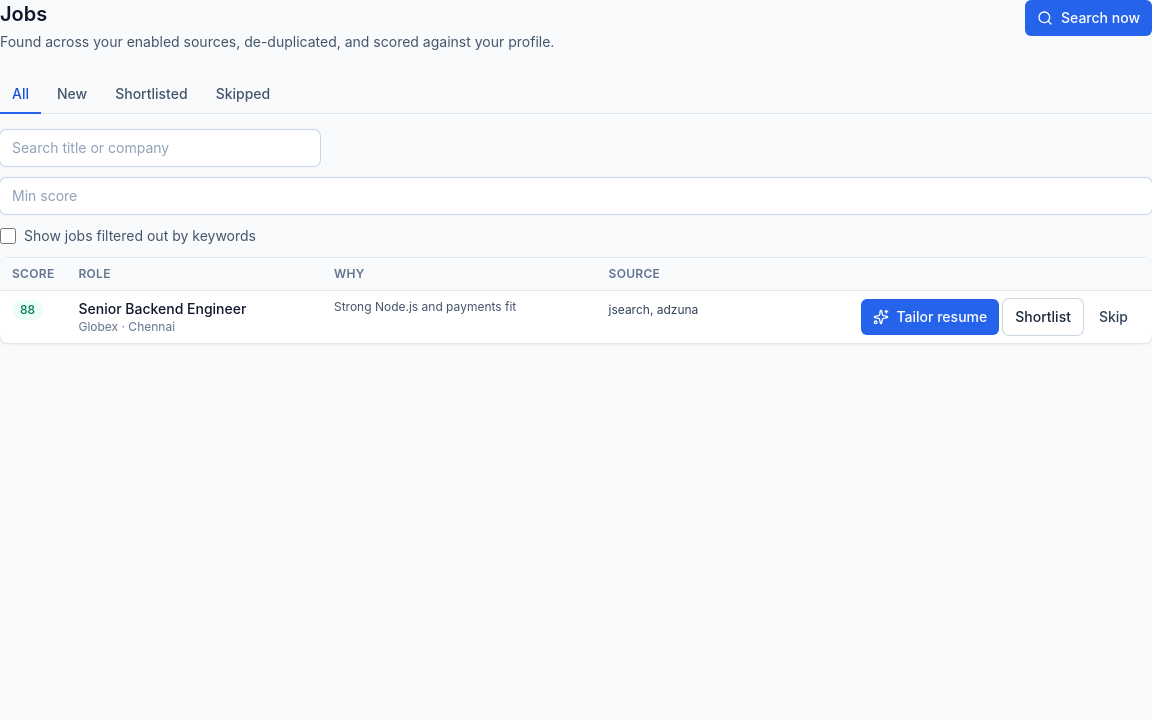
Test case: JobsPage › shows the cap error when tailoring is refused
What coordinates should you click on to do the following:
click the button "Tailor resume"
I would click on:
 (930, 317)
Its box is left=860, top=299, right=999, bottom=335.
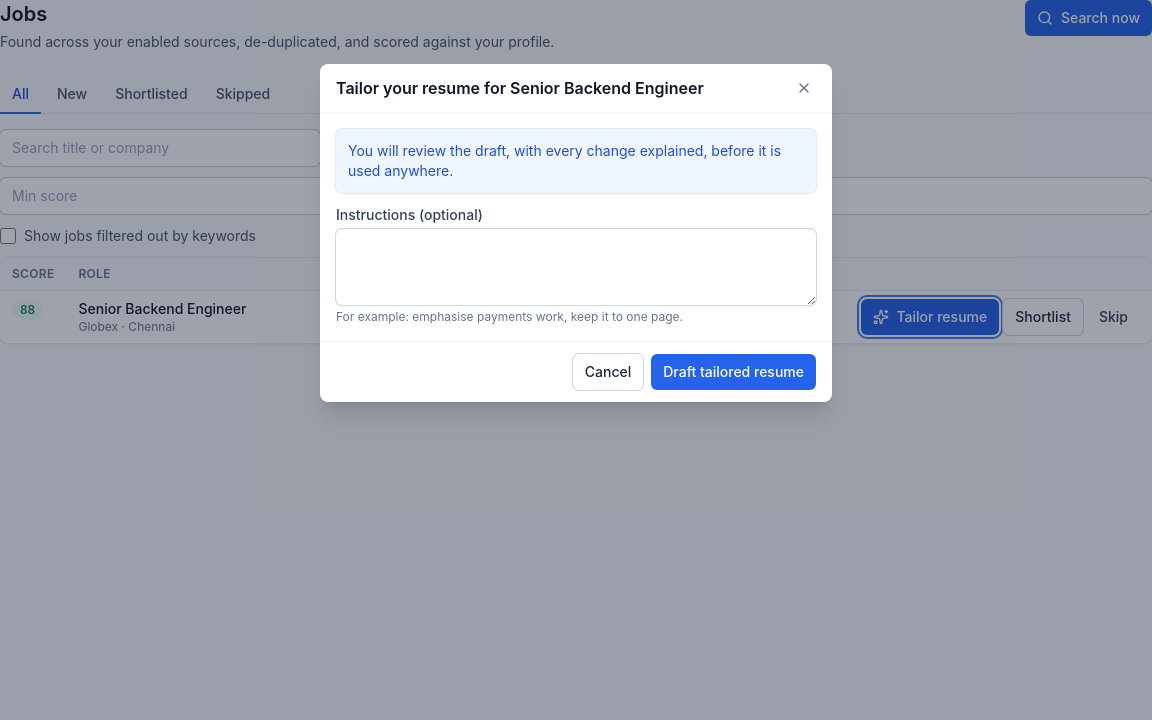
What coordinates should you click on to do the following:
click the button "Draft tailored resume"
I would click on:
 (734, 372)
Its box is left=651, top=354, right=816, bottom=390.
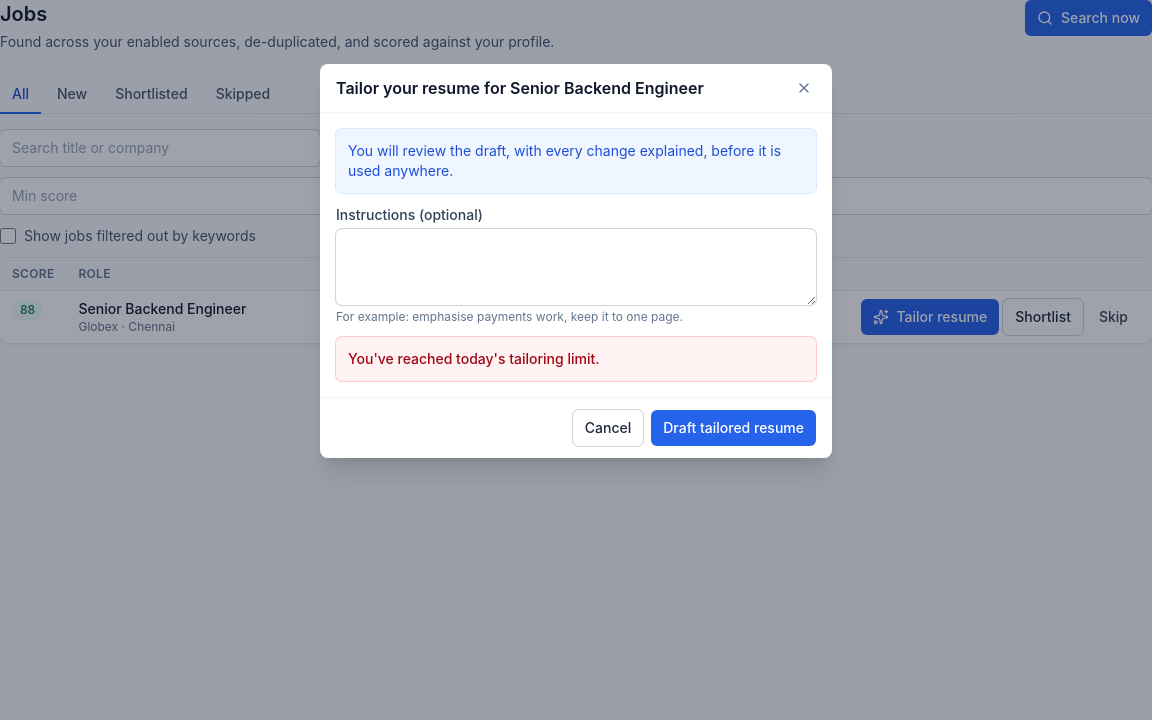
Expected: the text "You've reached today's tailoring limit." is shown, left=348, top=350, right=599, bottom=367
